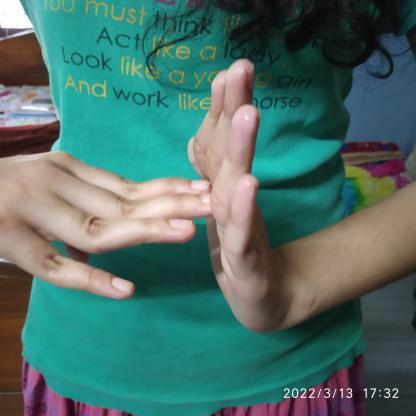Z: (2, 54, 289, 346)
